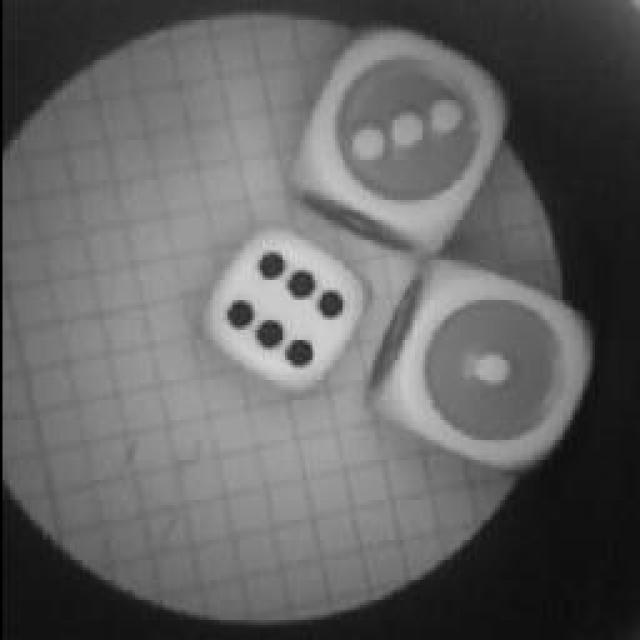dice_1: (358, 255, 600, 473)
dice_3: (288, 22, 512, 252)
dice_6: (188, 222, 378, 392)
